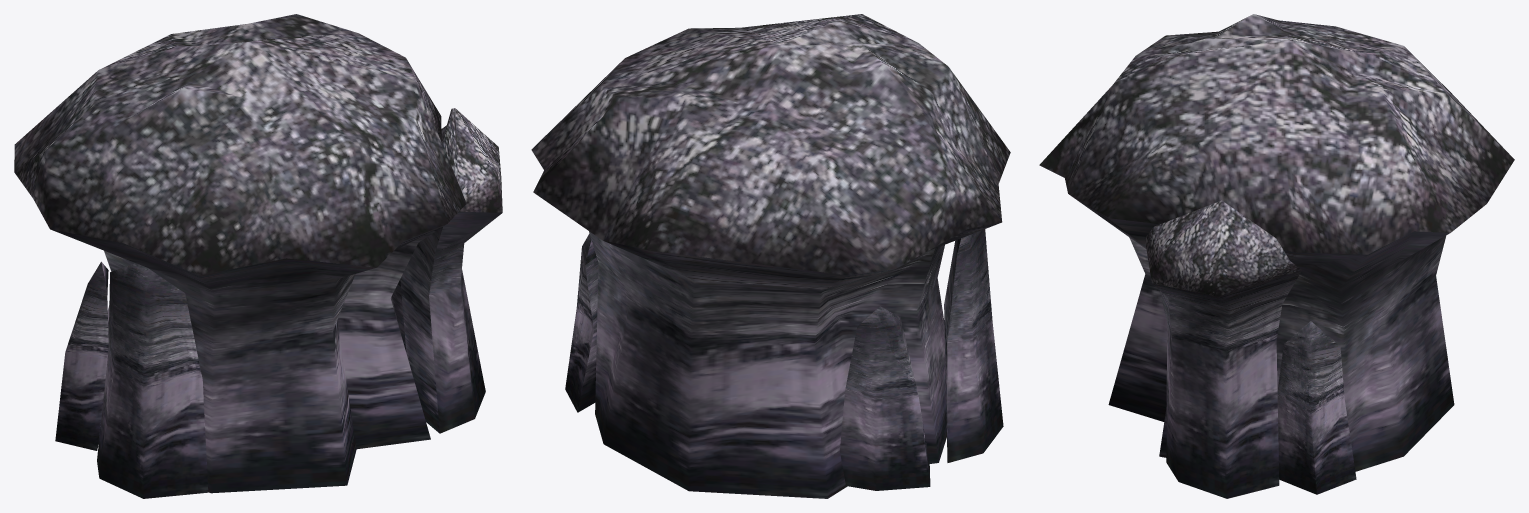
The model's file is rock_crystl_bush_sm_l1.fbx.
3 views of the same model, side by side, from view 1: azimuth 30°, elevation 25°; view 2: azimuth 150°, elevation 25°; view 3: azimuth 270°, elevation 25° (orthographic). The views are drawn at different scales.
Visible parts, largest first — view 1: mesh_node; view 2: mesh_node; view 3: mesh_node.
Boxes of the visible parts, bbox=[...] form: mesh_node: bbox=[14, 14, 502, 498]; mesh_node: bbox=[531, 14, 1010, 498]; mesh_node: bbox=[1039, 14, 1514, 498].
Bounding box in the file's own units: 2.27 × 1.93 × 2.3.
